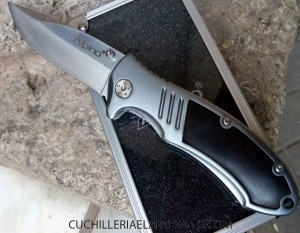knife: (3, 1, 126, 100)
